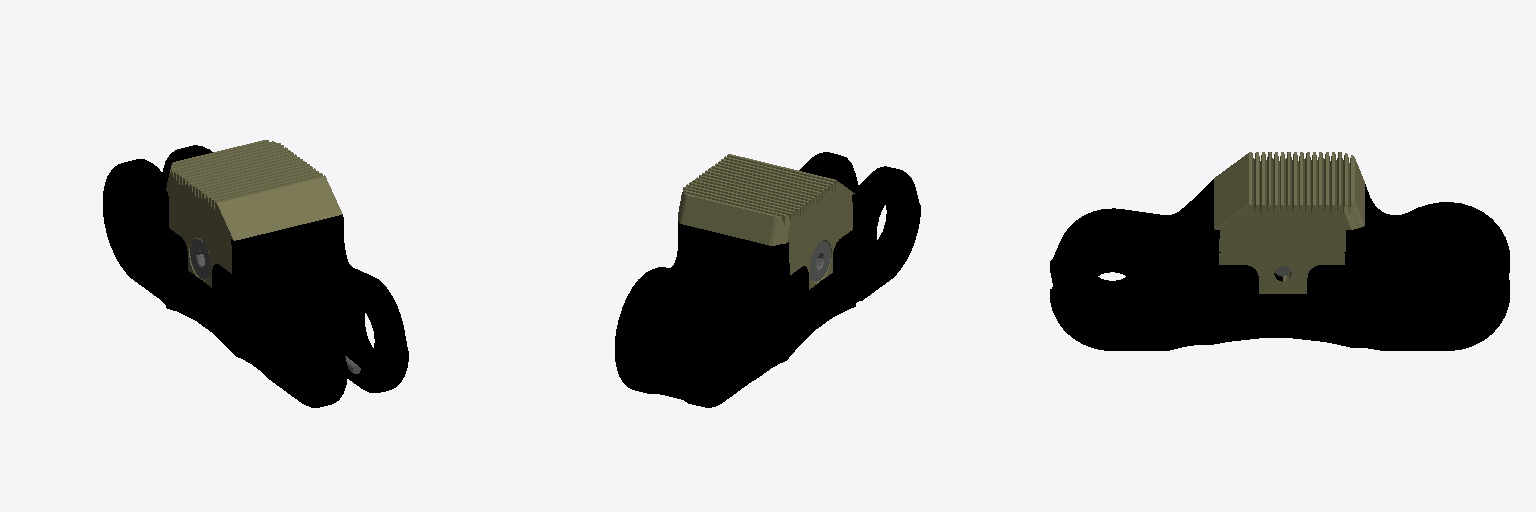
Rendered from if_proximal.obj.
3 renders of one model, left to right at view 1: azimuth 30°, elevation 25°; view 2: azimuth 150°, elevation 25°; view 3: azimuth 270°, elevation 25°, orthographic.
Visible parts, largest first — view 1: matte_metal, black_plastic, shiny_metal; view 2: matte_metal, black_plastic, shiny_metal; view 3: matte_metal, black_plastic.
Part boxes in pixels (x1,y1,x2,y2): matte_metal: (103,145,408,407); black_plastic: (166,140,341,287); shiny_metal: (190,238,360,373); matte_metal: (615,152,920,407); black_plastic: (678,154,854,289); shiny_metal: (810,241,830,281); matte_metal: (1050,179,1509,350); black_plastic: (1214,152,1364,293).
Bounding box in the file's own units: 18 × 24.5 × 65.99.